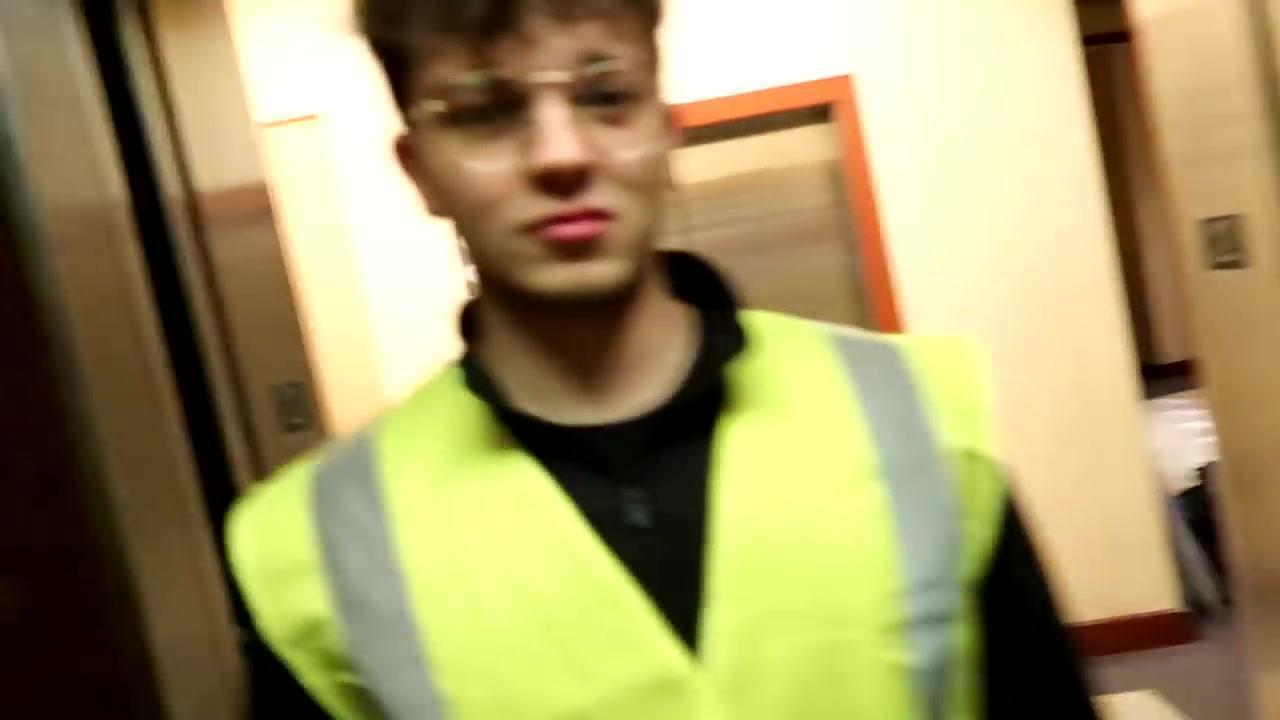Glass: (187, 310, 1044, 715)
